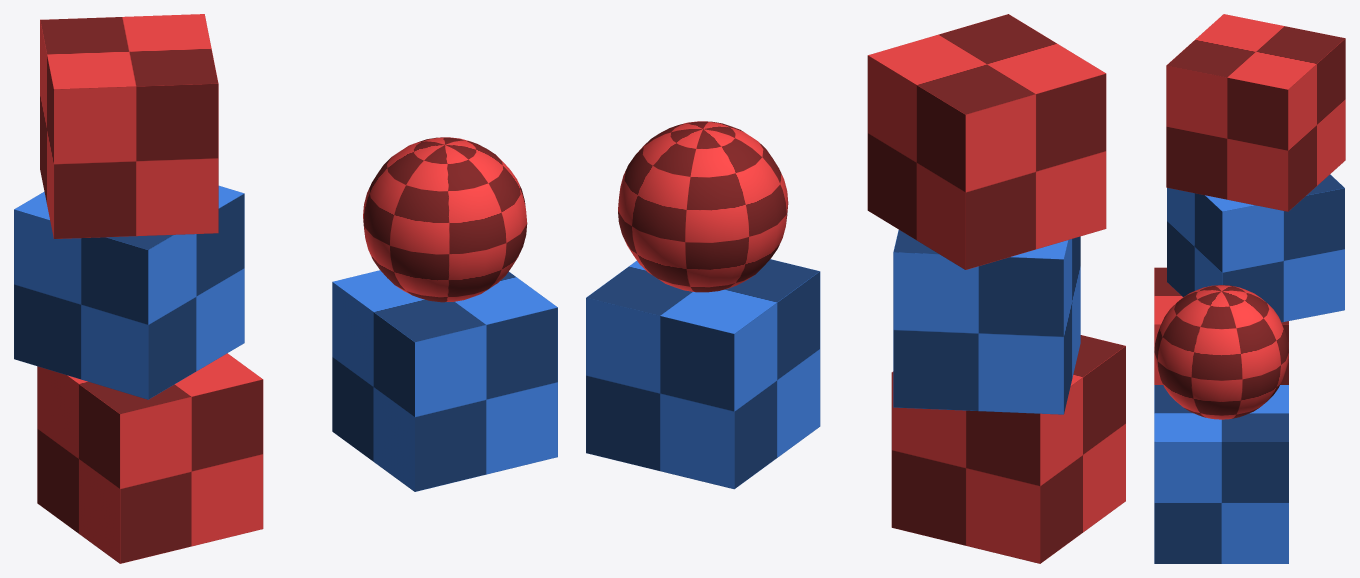
The model's file is TestGeometryNew.dae.
3 views of the same model, side by side, from view 1: azimuth 30°, elevation 25°; view 2: azimuth 150°, elevation 25°; view 3: azimuth 270°, elevation 25° (orthographic). The views are drawn at different scales.
Parts seen in each view (by area): view 1: SingleCube, CubeStack3, CubeStack1, CubeStack2, SingleSphere; view 2: CubeStack3, SingleCube, CubeStack1, CubeStack2, SingleSphere; view 3: CubeStack3, SingleCube, CubeStack2, SingleSphere, CubeStack1.
Boxes of the visible parts, left/top/right/bottom form: SingleCube: left=332, top=270, right=557, bottom=491; CubeStack3: left=40, top=14, right=218, bottom=238; CubeStack1: left=37, top=353, right=263, bottom=563; CubeStack2: left=14, top=185, right=244, bottom=399; SingleSphere: left=363, top=137, right=527, bottom=302; CubeStack3: left=867, top=14, right=1106, bottom=269; SingleCube: left=586, top=259, right=820, bottom=489; CubeStack1: left=891, top=335, right=1125, bottom=563; CubeStack2: left=893, top=230, right=1080, bottom=414; SingleSphere: left=618, top=121, right=788, bottom=292; CubeStack3: left=1166, top=14, right=1345, bottom=211; SingleCube: left=1154, top=385, right=1288, bottom=563; CubeStack2: left=1167, top=174, right=1344, bottom=322; SingleSphere: left=1154, top=285, right=1288, bottom=419; CubeStack1: left=1154, top=267, right=1288, bottom=384.
Size of the model in its own units: 3.23 by 3 by 1.42.
